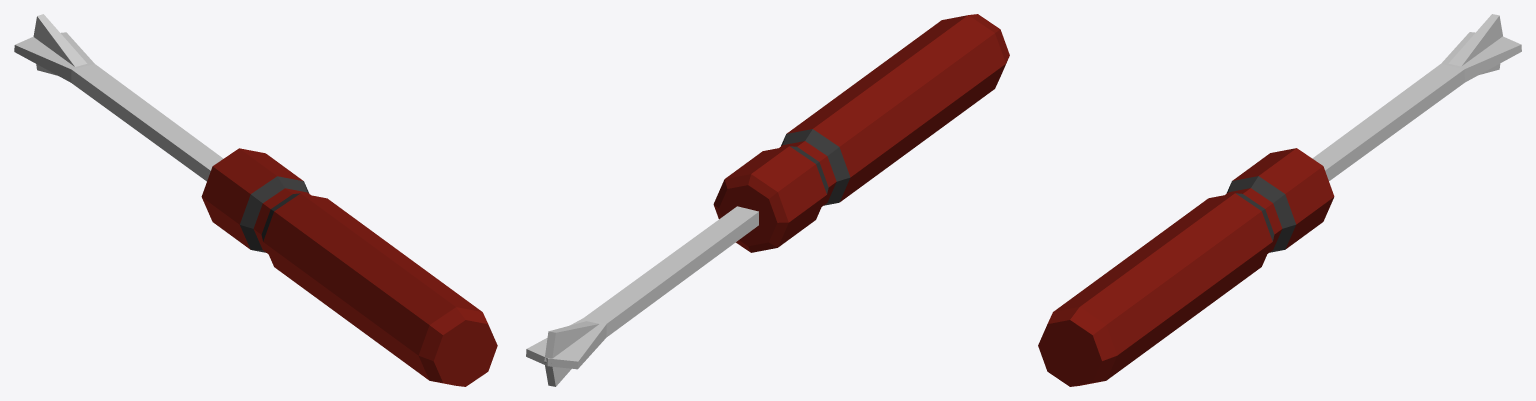
The model's file is screwdriver.glb.
The picture shows the model from 3 angles, left to right: view 1: azimuth 30°, elevation 25°; view 2: azimuth 150°, elevation 25°; view 3: azimuth 330°, elevation 25°; orthographic projection.
Parts seen in each view (by area): view 1: Screwdriver 1; view 2: Screwdriver 1; view 3: Screwdriver 1.
Part boxes in pixels (bbox=[...]): Screwdriver 1: bbox=[14, 14, 497, 386]; Screwdriver 1: bbox=[526, 14, 1009, 386]; Screwdriver 1: bbox=[1038, 14, 1521, 386].
Bounding box in the file's own units: 0.0254 × 0.0254 × 0.2518.
1 material, 1 textured.
